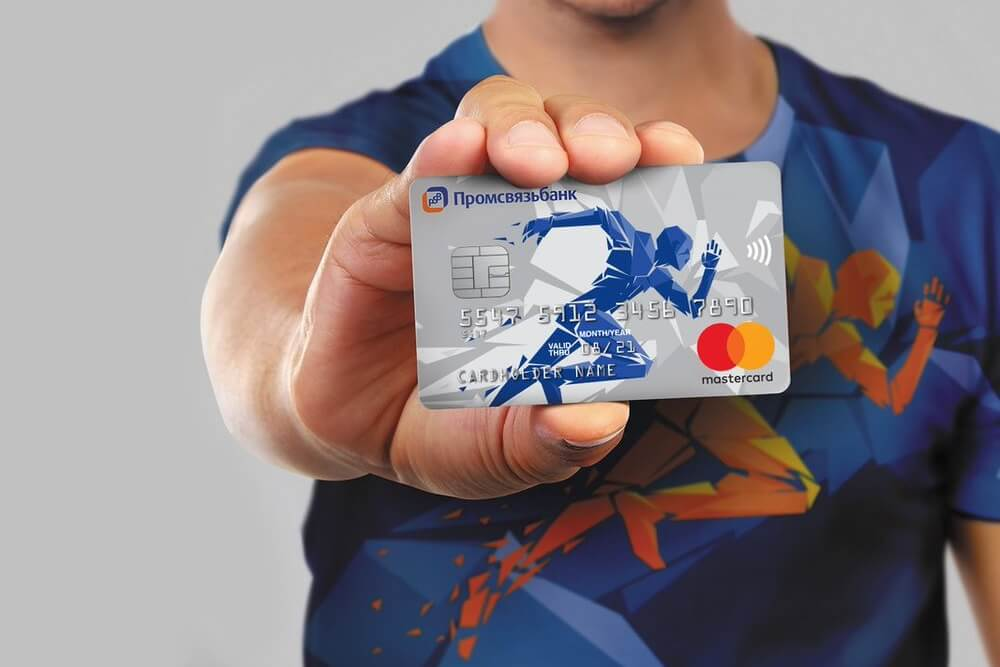card: (407, 161, 793, 410)
